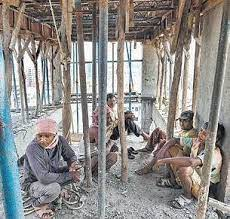arm: (27, 149, 68, 183), (157, 154, 192, 166)
leg: (173, 170, 193, 207), (137, 126, 159, 153)
nofootwear: (28, 201, 58, 219), (170, 192, 194, 209), (134, 159, 154, 177), (155, 177, 180, 190)
noglove: (69, 161, 87, 172), (156, 159, 164, 171)
nogoggle: (33, 134, 54, 139)
nohelmet: (35, 121, 62, 150), (177, 112, 193, 129)
novest: (32, 147, 69, 172)
